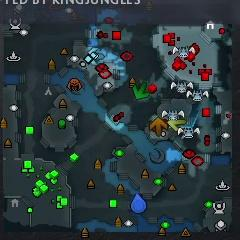p1: (131, 194, 147, 213)
x2: (168, 119, 186, 132)
x3: (86, 47, 105, 67)
x4: (132, 82, 149, 100)
x5: (150, 117, 168, 136)
